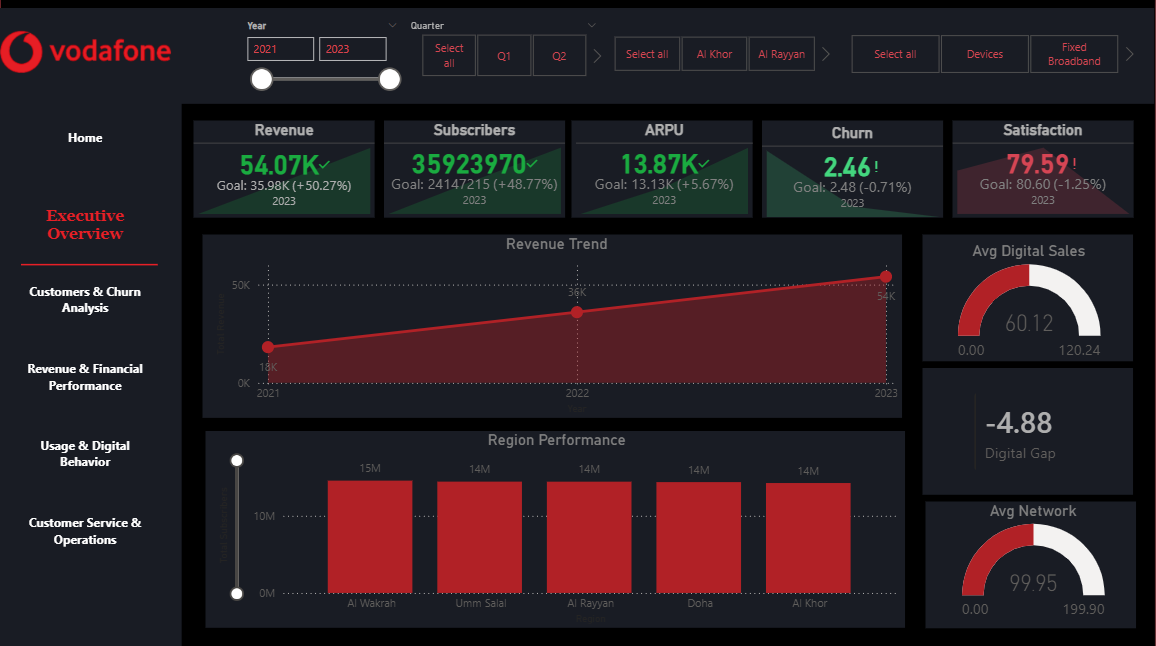

The dashboard page shown, as its layout file describes it:
{"tool":"powerbi","page":{"name":"Executive Overview","canvas":[1280,720],"ordinal":1},"visuals":[{"type":"shape","box":[2.5,0,1277.5,720],"z":0},{"type":"shape","box":[1.9,9.4,1277.5,105.8],"z":1000},{"type":"shape","box":[0,82.4,203.9,637.3],"z":2000},{"type":"image","box":[0,0,204.1,119.1],"z":3000},{"type":"shape","box":[217.5,135,200,107.5],"z":4000},{"type":"kpi","title":"Revenue","fields":{"Indicator":["Vodafone qatar dataset.Total Revenue"],"TrendLine":["Vodafone qatar dataset.Year"],"Goal":["Vodafone qatar dataset.Revenue Last Year"]},"box":[217.3,134.2,200.3,107.7],"z":5000},{"type":"shape","box":[427.5,135,200,107.5],"z":6000},{"type":"shape","box":[635,135,200,107.5],"z":7000},{"type":"shape","box":[845,135,200,107.5],"z":8000},{"type":"shape","box":[1055,135,200,107.5],"z":9000},{"type":"kpi","title":"Subscribers","fields":{"TrendLine":["Vodafone qatar dataset.Year"],"Indicator":["Vodafone qatar dataset.Total Subscribers"],"Goal":["Vodafone qatar dataset.Subscribers Last Year"]},"box":[427.5,135,200,107.5],"z":10000},{"type":"kpi","title":"ARPU","fields":{"TrendLine":["Vodafone qatar dataset.Year"],"Indicator":["Vodafone qatar dataset.Avg ARPU"],"Goal":["Vodafone qatar dataset.ARPU Last Year"]},"box":[640,135,195,107.5],"z":11000},{"type":"kpi","title":"Churn","fields":{"TrendLine":["Vodafone qatar dataset.Year"],"Indicator":["Vodafone qatar dataset.Avg Churn"],"Goal":["Vodafone qatar dataset.Churn Last Year"]},"box":[845,137.5,200,107.5],"z":12000},{"type":"kpi","title":"Satisfaction","fields":{"TrendLine":["Vodafone qatar dataset.Year"],"Indicator":["Vodafone qatar dataset.Avg Satisfaction"],"Goal":["Vodafone qatar dataset.Satisfaction Last Year"]},"box":[1055,135,200,107.5],"z":13000},{"type":"shape","box":[1022.5,260,232.5,140],"z":14000},{"type":"gauge","fields":{"Y":["Vodafone qatar dataset.Avg Digital Sales"]},"box":[1031.7,268.9,215.1,139.4],"z":15000},{"type":"shape","box":[1022.5,407.5,232.5,140],"z":16000},{"type":"cardVisual","fields":{"Data":["Vodafone qatar dataset.Digital Gap"]},"box":[1062.5,417.5,182.5,120],"z":17000},{"type":"shape","box":[1025,555,232.5,140],"z":18000},{"type":"gauge","fields":{"Y":["Vodafone qatar dataset.Avg Network"]},"box":[1043.7,555.7,201.2,139.4],"z":19000},{"type":"shape","box":[227.5,260,772.5,202.5],"z":20000},{"type":"lineChart","title":"Revenue Trend","fields":{"Category":["Vodafone qatar dataset.Year"],"Y":["Vodafone qatar dataset.Total Revenue"]},"box":[237.5,260,762.5,202.5],"z":21000},{"type":"shape","box":[230,477.5,772.5,217.5],"z":22000},{"type":"columnChart","title":"Region Performance","fields":{"Category":["Vodafone qatar dataset.Region"],"Y":["Vodafone qatar dataset.Total Subscribers"]},"box":[237.5,477.5,762.5,217.5],"z":23000},{"type":"slicer","fields":{"Values":["Vodafone qatar dataset.Year"]},"box":[262.7,18.9,190.9,85],"z":24000},{"type":"slicer","fields":{"Values":["Vodafone qatar dataset.Quarter"]},"box":[444.1,18.9,230.6,73.7],"z":25000},{"type":"slicer","fields":{"Values":["Vodafone qatar dataset.Region"]},"box":[661.4,39.7,260.8,41.6],"z":26000},{"type":"slicer","fields":{"Values":["Vodafone qatar dataset.Segment"]},"box":[922.7,38.1,334.6,43.1],"z":27000},{"type":"pageNavigator","box":[25.9,133.4,151.4,501.9],"z":28000}]}

Visuals, with their boxes in screenshot pixels (x1, y1, x2, y2), scaled from the page's 1280x720 canvas onto the 1156x646 screenshot:
shape: locate(2, 0, 1155, 645)
shape: locate(2, 8, 1155, 103)
shape: locate(0, 74, 184, 645)
image: locate(0, 0, 184, 107)
shape: locate(196, 121, 377, 218)
"Revenue" kpi: locate(196, 120, 377, 217)
shape: locate(386, 121, 567, 218)
shape: locate(573, 121, 754, 218)
shape: locate(763, 121, 944, 218)
shape: locate(953, 121, 1133, 218)
"Subscribers" kpi: locate(386, 121, 567, 218)
"ARPU" kpi: locate(578, 121, 754, 218)
"Churn" kpi: locate(763, 123, 944, 220)
"Satisfaction" kpi: locate(953, 121, 1133, 218)
shape: locate(923, 233, 1133, 359)
gauge - Vodafone qatar dataset.Avg Digital Sales: locate(932, 241, 1126, 366)
shape: locate(923, 366, 1133, 491)
cardVisual - Vodafone qatar dataset.Digital Gap: locate(960, 375, 1124, 482)
shape: locate(926, 498, 1136, 624)
gauge - Vodafone qatar dataset.Avg Network: locate(943, 499, 1124, 624)
shape: locate(205, 233, 903, 415)
"Revenue Trend" lineChart: locate(214, 233, 903, 415)
shape: locate(208, 428, 905, 624)
"Region Performance" columnChart: locate(214, 428, 903, 624)
slicer - Vodafone qatar dataset.Year: locate(237, 17, 410, 93)
slicer - Vodafone qatar dataset.Quarter: locate(401, 17, 609, 83)
slicer - Vodafone qatar dataset.Region: locate(597, 36, 833, 73)
slicer - Vodafone qatar dataset.Segment: locate(833, 34, 1135, 73)
pageNavigator: locate(23, 120, 160, 570)
